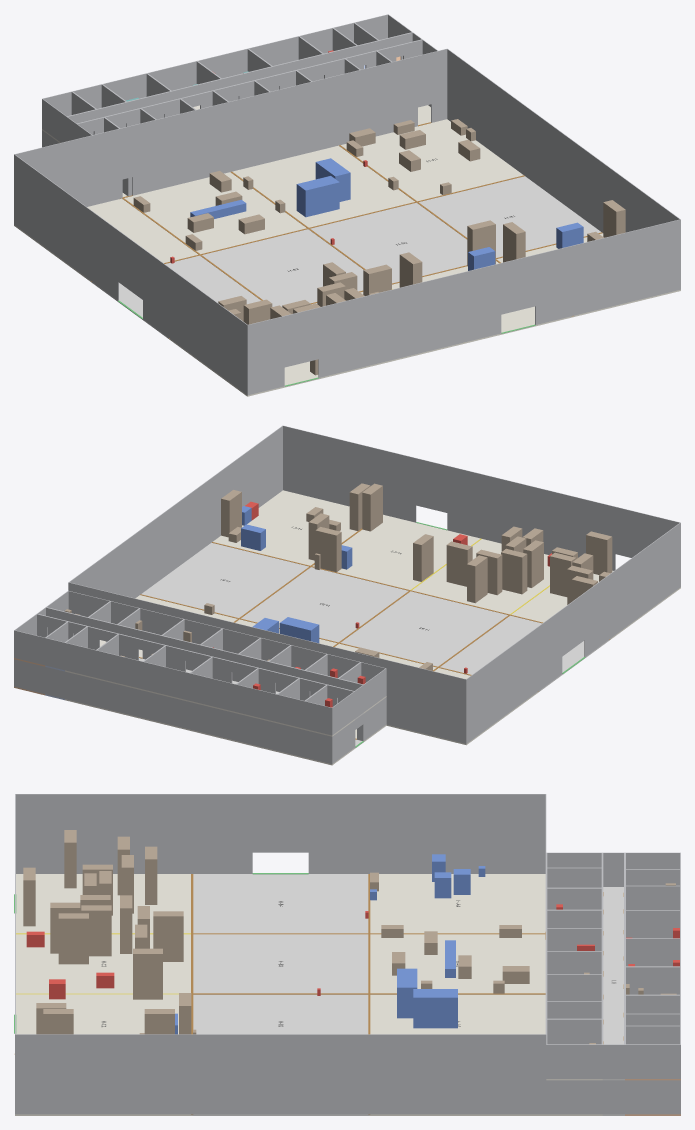
3 renders of one model, top to bottom at view 1: azimuth 30°, elevation 25°; view 2: azimuth 150°, elevation 25°; view 3: azimuth 270°, elevation 25°, orthographic. The views are drawn at different scales.
Parts seen in each view (by area): view 1: Walls F0, Walls F1, H-B2 [S006], H-B3 [S007], H-A1 [S001], H-B1 [S005], H-A3 [S003], H-A2 [S002], H-A4 [S004], H-B4 [S008], Press brake H-A2-A, H-C2 [S010] (+10 smaller); view 2: Walls F0, Walls F1, H-B3 [S007], H-B1 [S005], H-B2 [S006], H-C2 [S010], H-C1 [S009], H-B4 [S008], H-C3 [S011], H-C4 [S012], Pallet rack H-C3-C, Pallet rack H-C2-B (+13 smaller); view 3: Walls F0, Walls F1, H-B3 [S007], H-B4 [S008], H-A4 [S004], H-A3 [S003], H-B2 [S006], H-C3 [S011], H-A2 [S002], H-C4 [S012], H-C2 [S010], 1.01 [S001] (+17 smaller).
Part boxes in pixels (left/top/right/bottom): Walls F0: left=14, top=48, right=680, bottom=395; Walls F1: left=42, top=14, right=437, bottom=142; H-B2 [S006]: left=310, top=202, right=467, bottom=283; H-B3 [S007]: left=202, top=229, right=363, bottom=306; H-A1 [S001]: left=341, top=119, right=523, bottom=201; H-B1 [S005]: left=419, top=176, right=601, bottom=257; H-A3 [S003]: left=124, top=172, right=306, bottom=254; H-A2 [S002]: left=232, top=145, right=414, bottom=227; H-A4 [S004]: left=14, top=198, right=198, bottom=282; H-B4 [S008]: left=92, top=255, right=261, bottom=339; Press brake H-A2-A: left=296, top=176, right=339, bottom=217; H-C2 [S010]: left=392, top=261, right=572, bottom=343; Walls F0: left=14, top=425, right=680, bottom=763; Walls F1: left=14, top=590, right=386, bottom=735; H-B3 [S007]: left=340, top=591, right=507, bottom=666; H-B1 [S005]: left=141, top=542, right=308, bottom=617; H-B2 [S006]: left=241, top=567, right=408, bottom=642; H-C2 [S010]: left=312, top=514, right=480, bottom=589; H-C1 [S009]: left=213, top=490, right=357, bottom=565; H-B4 [S008]: left=440, top=615, right=609, bottom=692; H-C3 [S011]: left=412, top=539, right=549, bottom=614; H-C4 [S012]: left=511, top=570, right=680, bottom=640; Pallet rack H-C3-C: left=501, top=548, right=527, bottom=594; Pallet rack H-C2-B: left=315, top=527, right=341, bottom=572; Walls F0: left=15, top=794, right=680, bottom=1114; Walls F1: left=546, top=852, right=680, bottom=1078; H-B3 [S007]: left=193, top=934, right=368, bottom=993; H-B4 [S008]: left=193, top=874, right=368, bottom=933; H-A4 [S004]: left=370, top=874, right=545, bottom=933; H-A3 [S003]: left=370, top=934, right=545, bottom=993; H-B2 [S006]: left=193, top=994, right=368, bottom=1034; H-C3 [S011]: left=16, top=934, right=190, bottom=993; H-A2 [S002]: left=370, top=994, right=545, bottom=1034; H-C4 [S012]: left=16, top=874, right=190, bottom=933; H-C2 [S010]: left=16, top=994, right=178, bottom=1034; 1.01 [S001]: left=602, top=887, right=624, bottom=1080.
Size of the model in its own units: 50.95 by 8 by 59.5.
